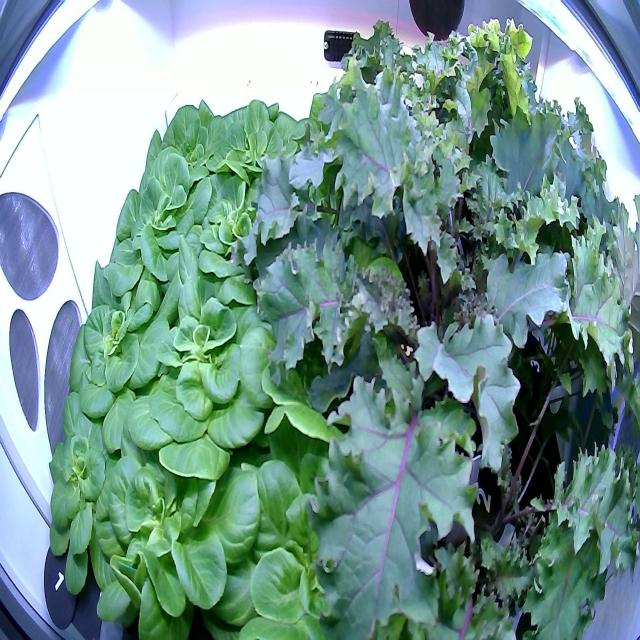young: (121, 253, 309, 490), (87, 416, 262, 640), (228, 442, 422, 640), (49, 250, 185, 469), (35, 387, 150, 602), (101, 146, 228, 335), (175, 158, 304, 316), (131, 84, 244, 226), (198, 90, 314, 197)
